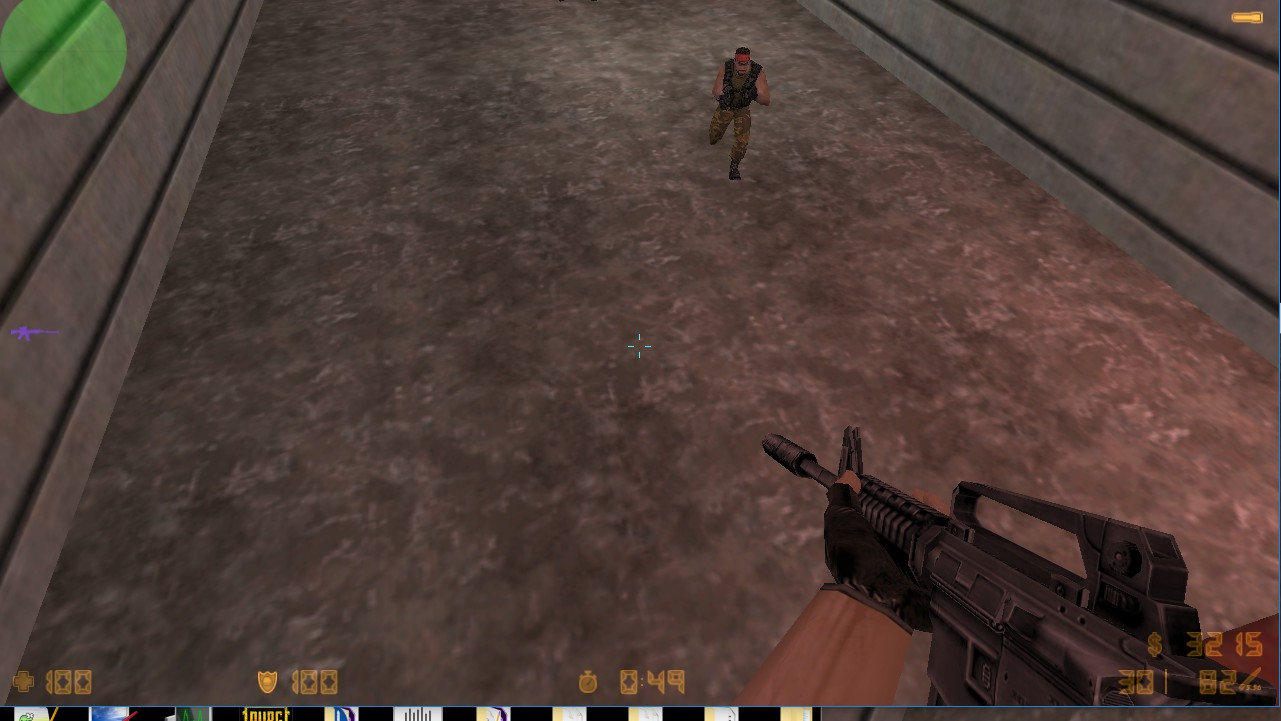person: (701, 41, 779, 194)
